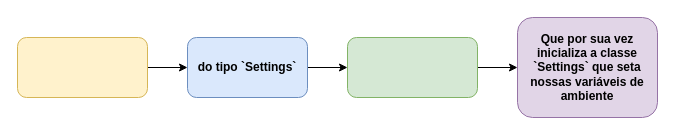
This 675x135 diagram has some shape labels left out. Here are the shapes that lost their labels. From the top down, the centre of each, then its label:
At (x=82, y=67): "variável `settings`".
At (x=412, y=67): "Depende da função `get_settings`".
